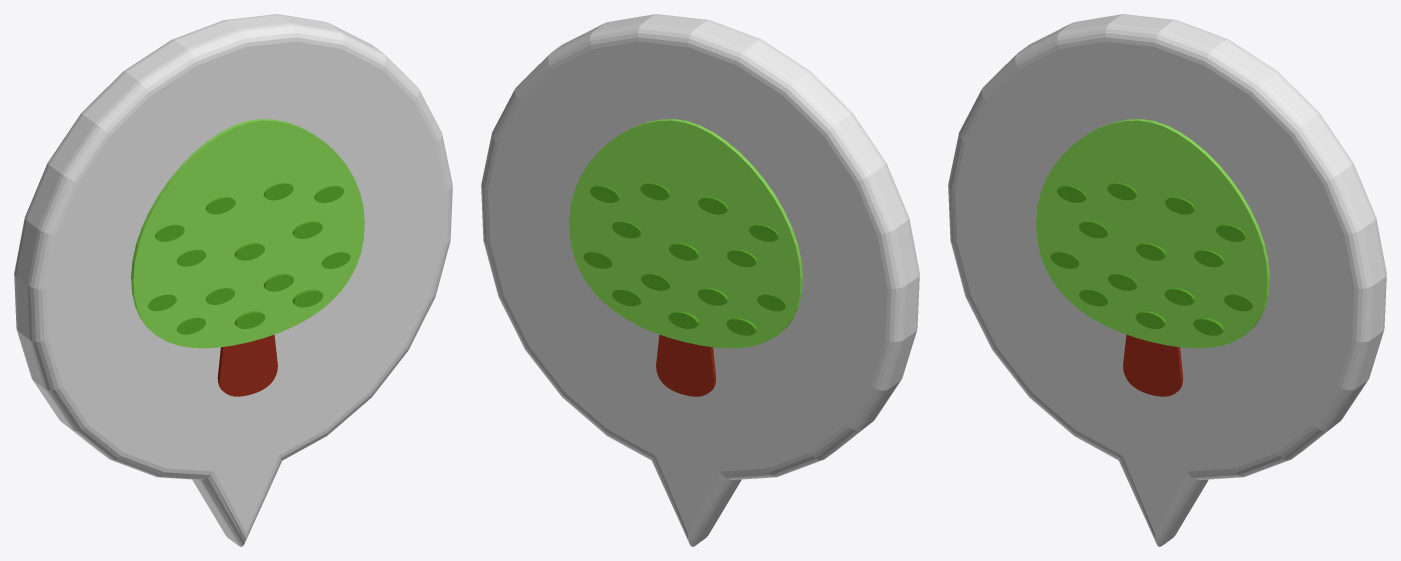
Rendered from deciduous_tree.glb.
3 renders of one model, left to right at view 1: azimuth 30°, elevation 25°; view 2: azimuth 150°, elevation 25°; view 3: azimuth 330°, elevation 25°, orthographic.
Parts seen in each view (by area): view 1: EmotionBubble; view 2: EmotionBubble; view 3: EmotionBubble.
Boxes of the visible parts, x1,y1,x2,y2 form: EmotionBubble: (14,14,452,546); EmotionBubble: (481,14,919,546); EmotionBubble: (948,14,1386,546).
Size of the model in its own units: 5.29 by 6.16 by 0.76.
